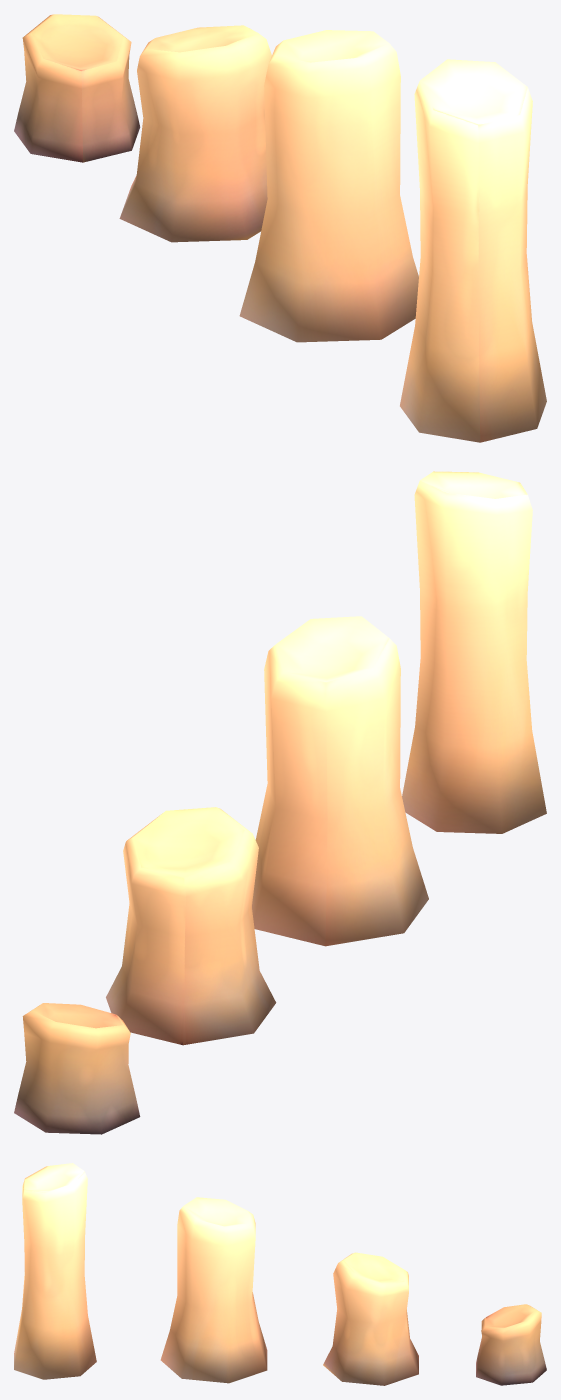
The model's file is candles.fbx.
3 views of the same model, one above another, from view 1: azimuth 30°, elevation 25°; view 2: azimuth 150°, elevation 25°; view 3: azimuth 270°, elevation 25° (orthographic). The views are drawn at different scales.
Parts seen in each view (by area): view 1: ThickCandle, LargeCandle, MediumCandle, SmallCandle; view 2: ThickCandle, LargeCandle, MediumCandle, SmallCandle; view 3: ThickCandle, LargeCandle, MediumCandle, SmallCandle.
Part boxes in pixels (left/top/right/bottom): ThickCandle: left=239, top=30, right=418, bottom=342; LargeCandle: left=400, top=59, right=546, bottom=442; MediumCandle: left=119, top=25, right=271, bottom=242; SmallCandle: left=14, top=14, right=140, bottom=162; ThickCandle: left=252, top=616, right=428, bottom=946; LargeCandle: left=402, top=471, right=546, bottom=833; MediumCandle: left=106, top=807, right=276, bottom=1045; SmallCandle: left=14, top=1003, right=140, bottom=1134; ThickCandle: left=160, top=1197, right=267, bottom=1383; LargeCandle: left=14, top=1163, right=96, bottom=1379; MediumCandle: left=323, top=1252, right=418, bottom=1385; SmallCandle: left=476, top=1304, right=546, bottom=1385.
Size of the model in its own units: 16.83 by 34.19 by 81.96.
